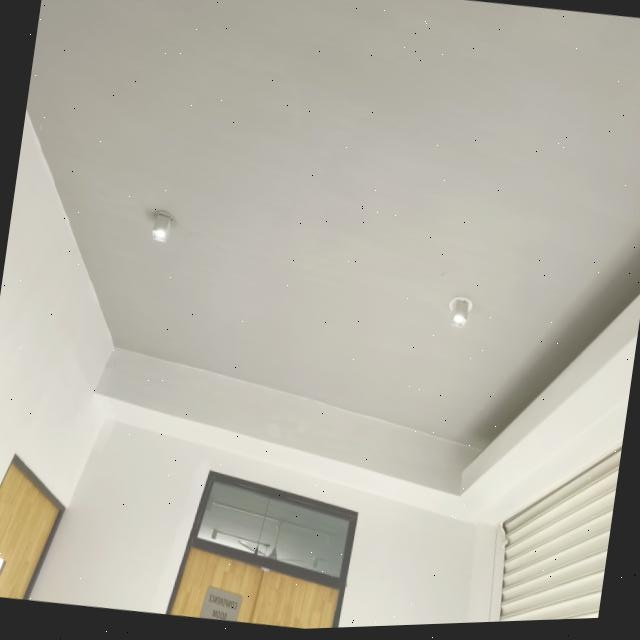fluorescent tube: (413, 275, 495, 370), (121, 180, 195, 280)
